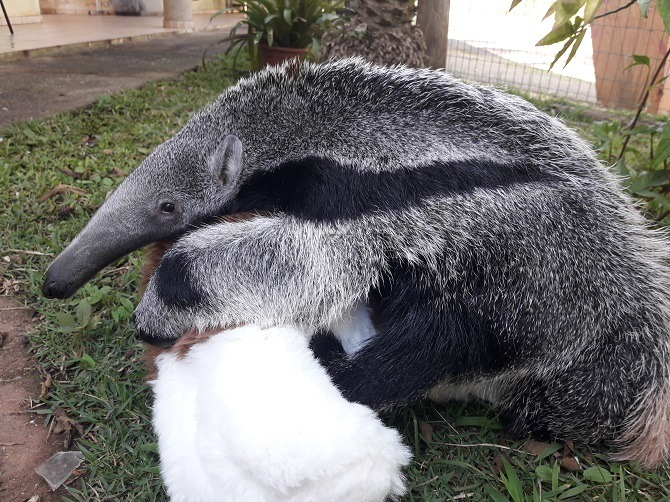TamanduaBandeira: (35, 52, 657, 441)
